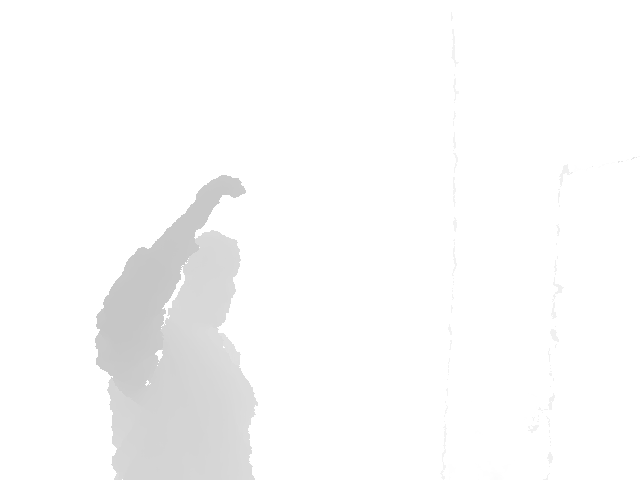hand: (178, 174, 247, 230)
head: (164, 230, 242, 331)
person: (95, 174, 261, 479)
